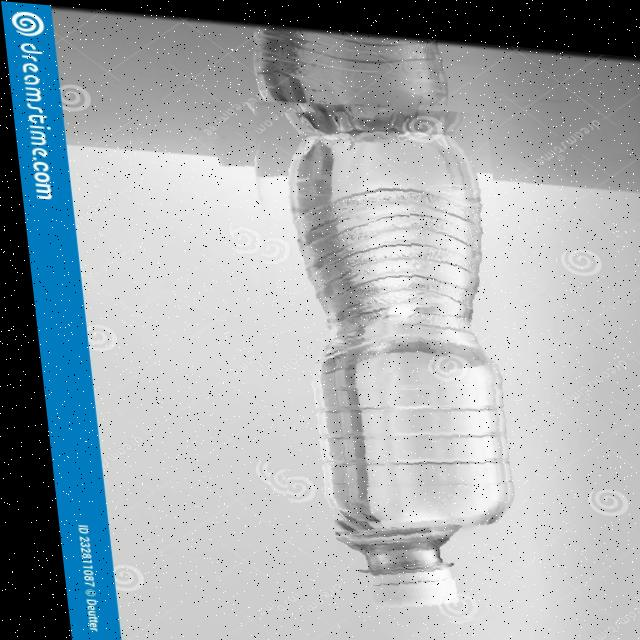plasticbottle: (212, 83, 529, 622)
plasticbottlecap: (321, 505, 497, 619)
